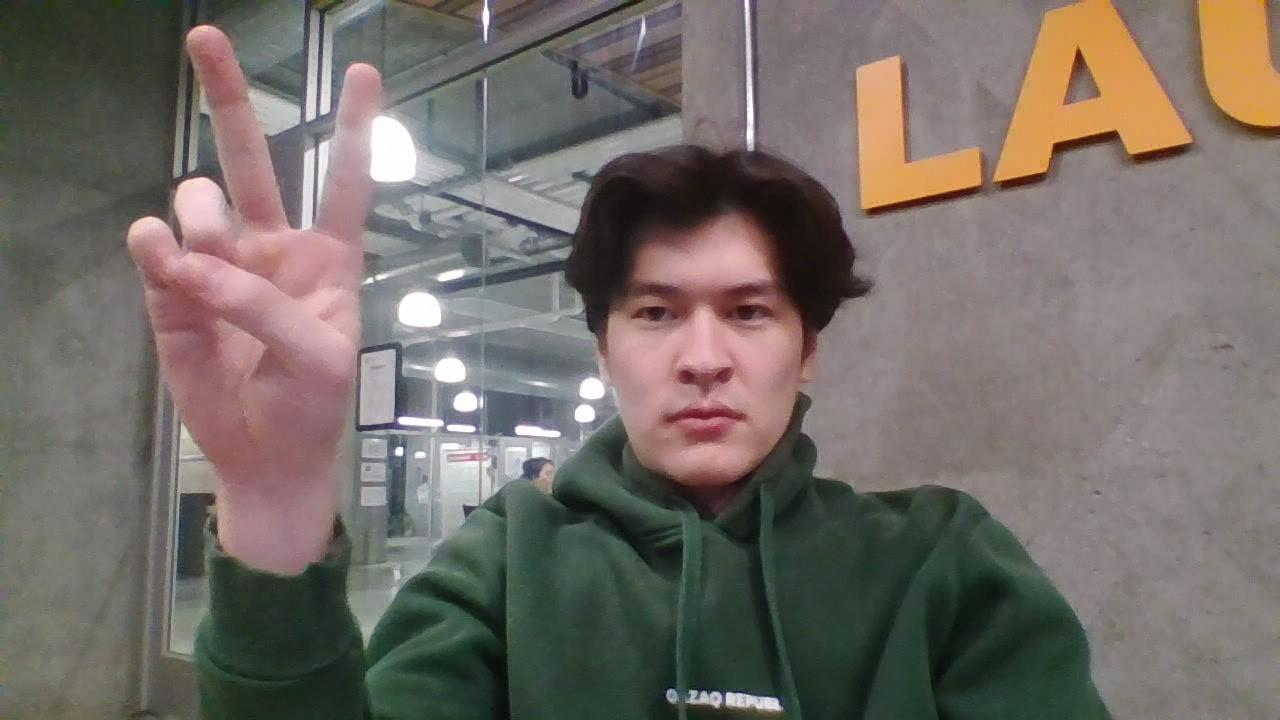peace: (128, 26, 387, 481)
